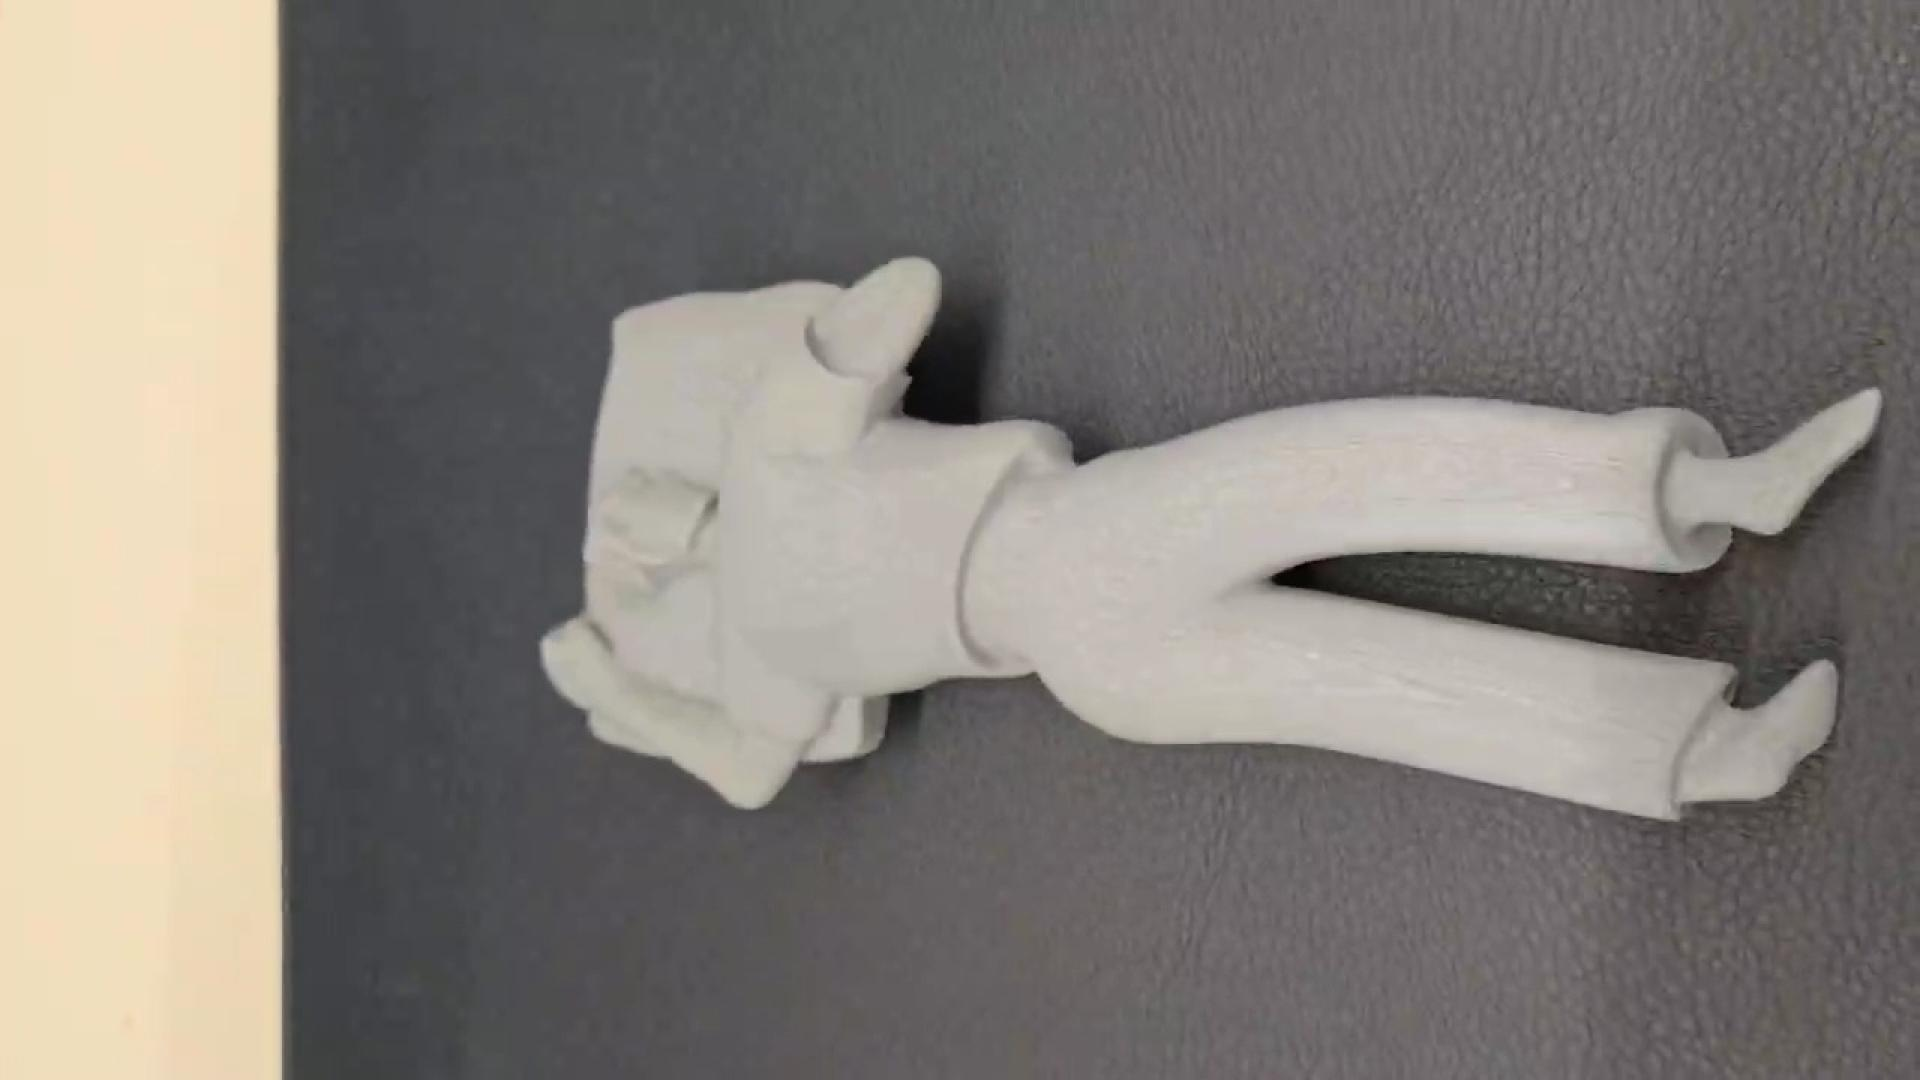Bad-style: (533, 251, 1891, 827)
